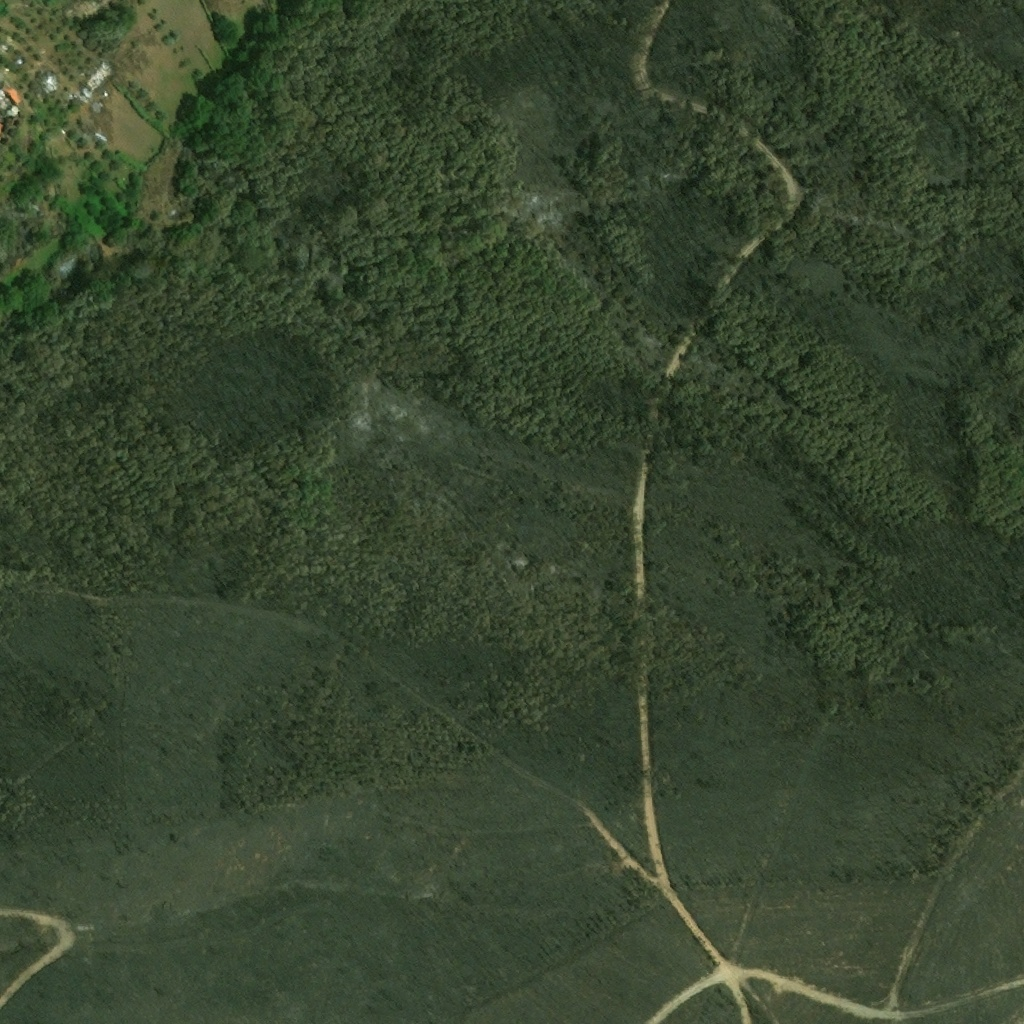0 no-damage: (2, 81, 24, 104)
4 un-classified: (80, 86, 93, 101), (0, 121, 5, 133)
